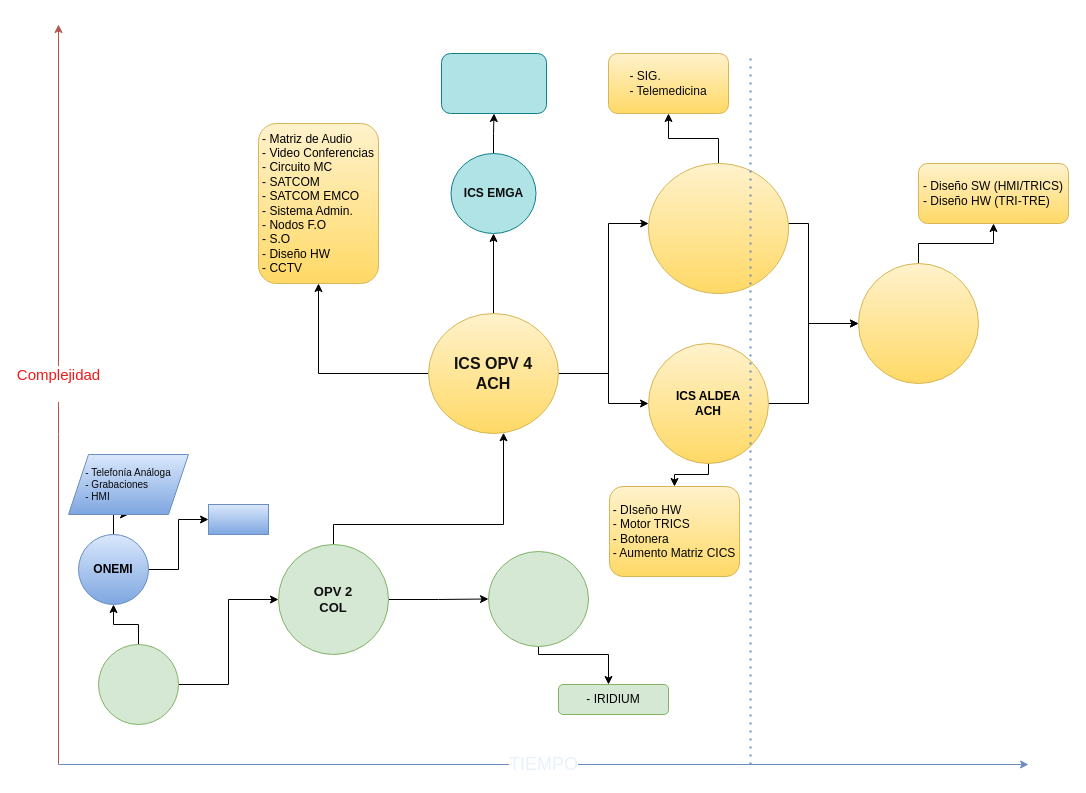
Some shapes in this 1086 by 793 pixel diagram are drawn without their labels. Each missing label, with the centre of its shape:
"- Funcional 100% SIP" goes at [493,83].
"ICS ANTARTICA ACH" goes at [718,228].
"ICS ESCOTILLON ACH" goes at [918,323].
"ICS Linux" goes at [238,519].
"OPV 1 COL" goes at [138,684].
"OPV 3 COL" goes at [538,598].
